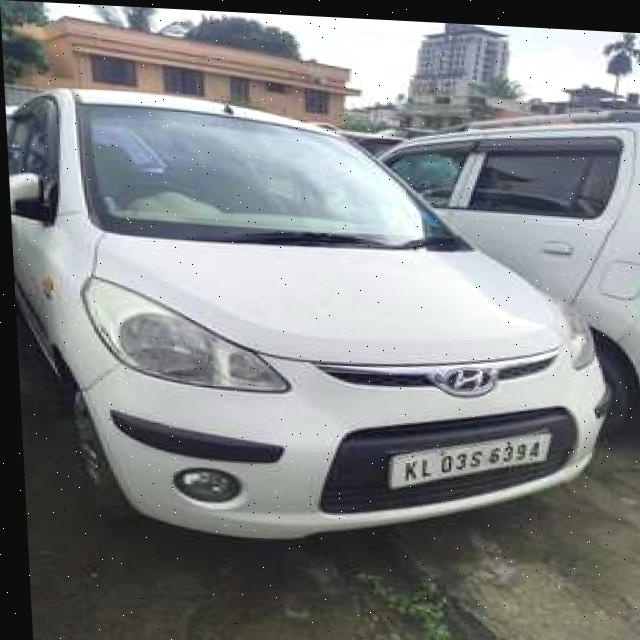plate: (382, 416, 557, 493)
